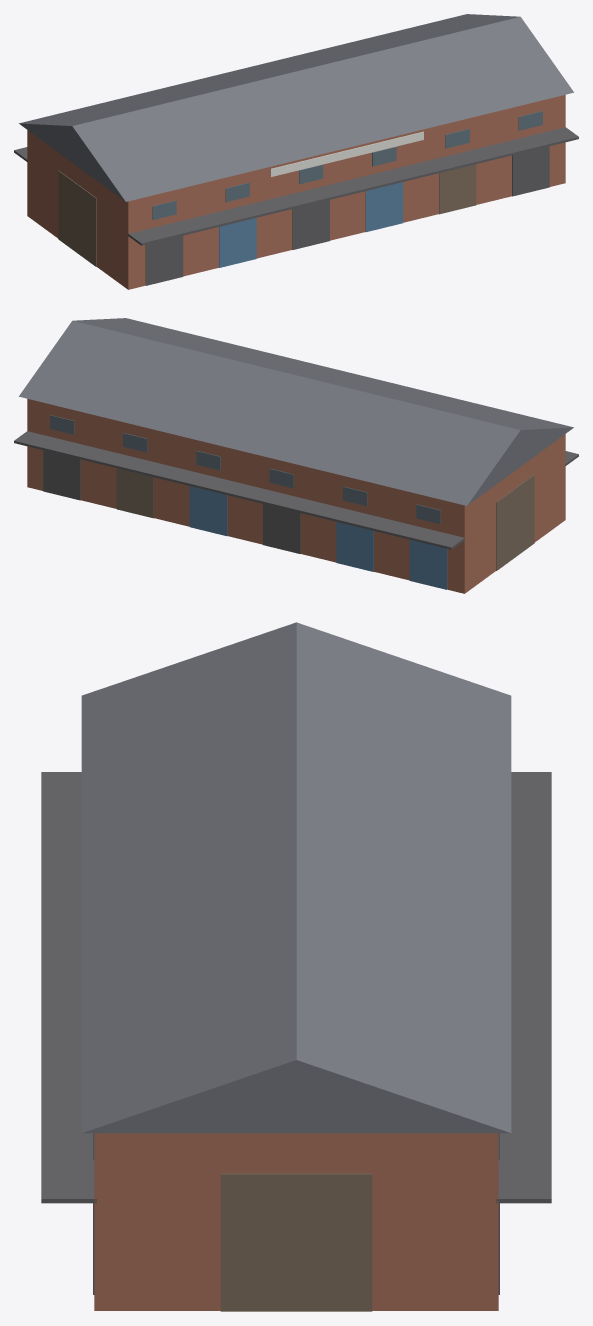
The model's file is QuayShed.glb.
3 renders of one model, top to bottom at view 1: azimuth 30°, elevation 25°; view 2: azimuth 150°, elevation 25°; view 3: azimuth 270°, elevation 25°, orthographic. The views are drawn at different scales.
Parts seen in each view (by area): view 1: Shed roof, Shed, Canopy, Gable door, Loading door, Loading door.003, Loading door.005, Loading door.002, Loading door.004, Loading door.001, Name band, Upper window (+5 smaller); view 2: Shed roof, Shed, Canopy.001, Gable door, Loading door.006, Loading door.009, Loading door.011, Loading door.008, Loading door.010, Loading door.007, Upper window.006, Upper window.009 (+4 smaller); view 3: Shed roof, Shed, Gable door.001, Canopy, Canopy.001.
Part boxes in pixels (x1,y1,x2,y2): Shed roof: (19,14,573,201); Shed: (27,95,565,289); Canopy: (127,127,578,245); Gable door: (58,170,96,266); Loading door: (145,236,183,285); Loading door.003: (365,182,403,232); Loading door.005: (512,146,549,196); Loading door.002: (292,200,329,249); Loading door.004: (439,164,476,214); Loading door.001: (219,218,256,267); Name band: (270,131,423,176); Upper window: (152,200,176,219); Shed roof: (19,318,573,505); Shed: (27,399,565,593); Canopy.001: (14,431,465,549); Gable door: (496,474,534,570); Loading door.006: (409,540,447,589); Loading door.009: (189,486,227,536); Loading door.011: (43,450,80,500); Loading door.008: (263,504,300,553); Loading door.010: (116,468,153,518); Loading door.007: (336,522,373,571); Upper window.006: (416,504,440,523); Upper window.009: (196,451,220,470); Shed roof: (81,622,511,1133); Shed: (94,1133,498,1310); Gable door.001: (220,1173,372,1311); Canopy: (41,772,96,1203); Canopy.001: (496,772,551,1203).
Bounding box in the file's own units: 41 × 11.2 × 20.2.
